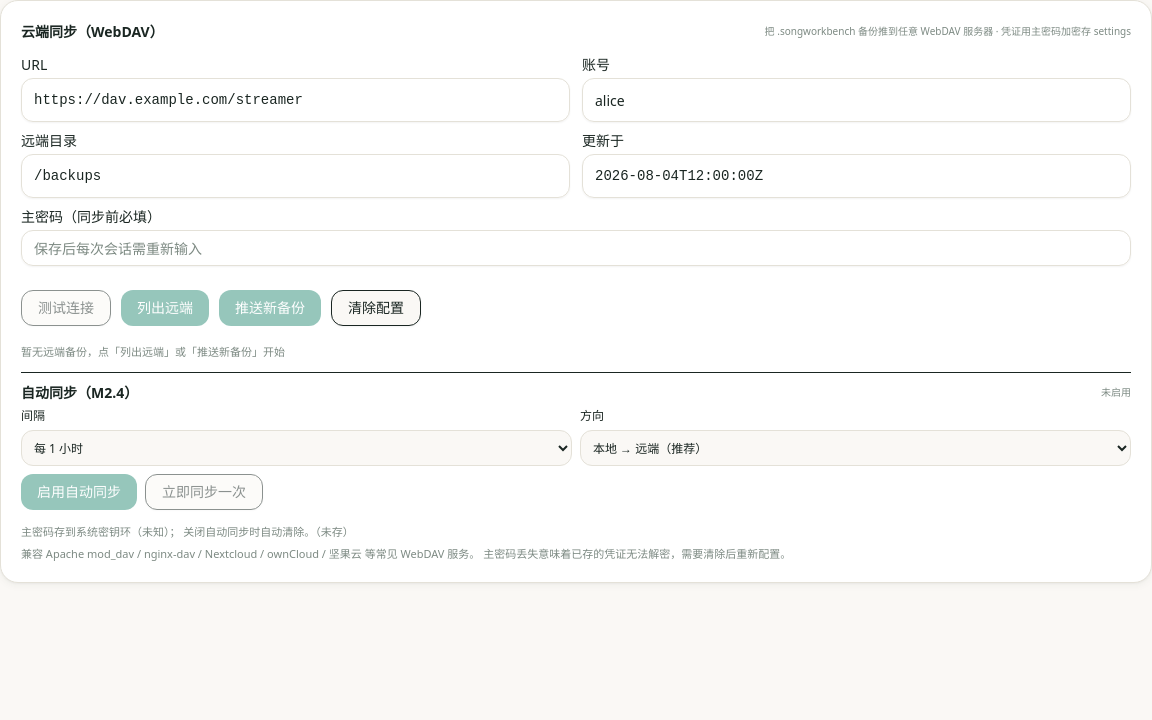
Test: WebDavPanel › 清除配置 → 调 /config/clear + 状态回 unconfigured
Step 1. Type "master123" into the password field with test id "webdav-input-master-password" → x=576, y=248, box [21,230,1131,266]
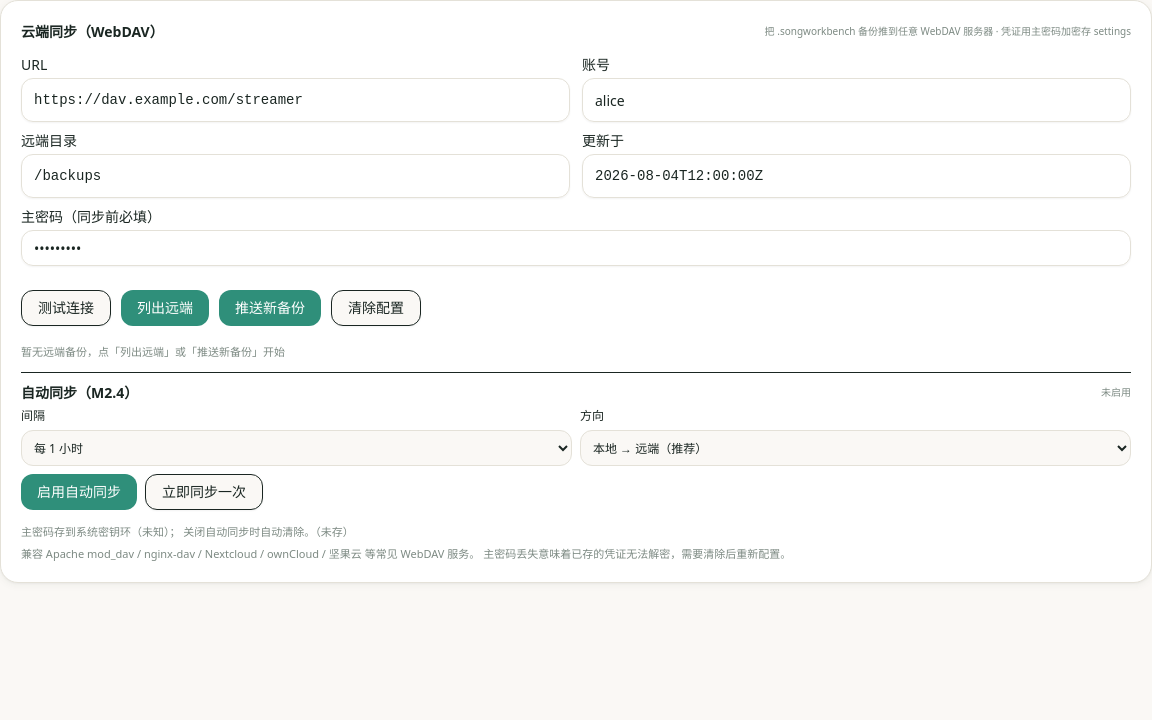
Step 2. Click the button with test id "webdav-clear-button" → x=376, y=308, box [331,290,421,326]
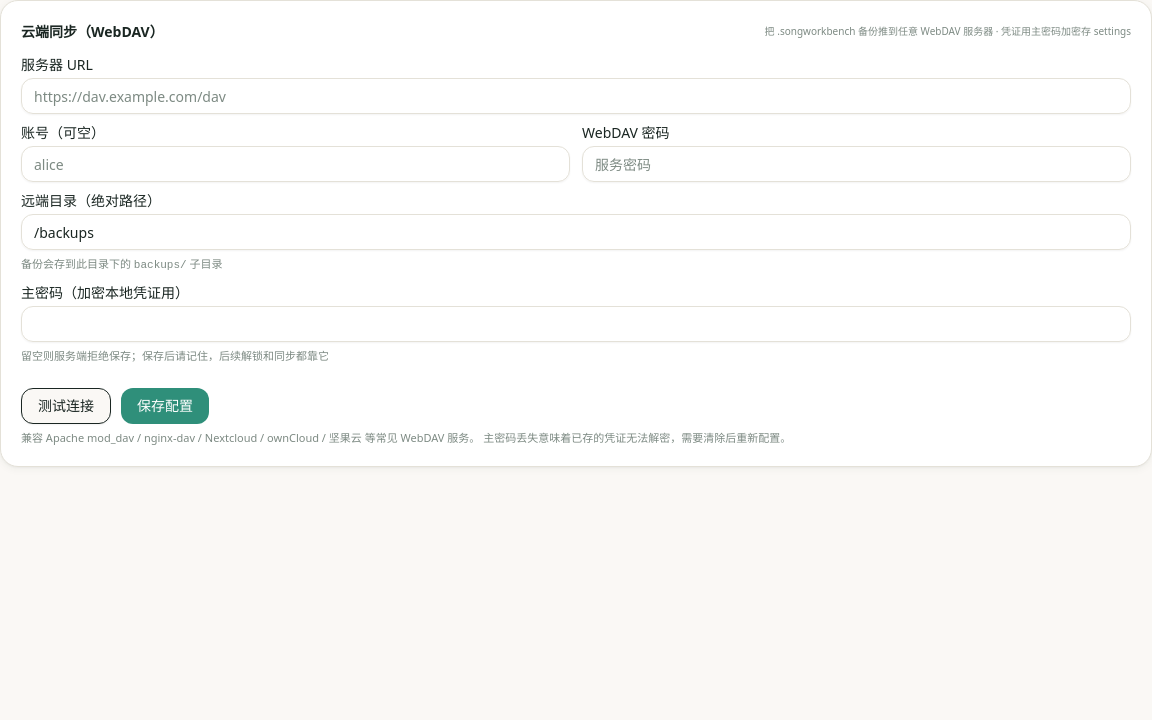
Check: the element with test id "webdav-config-form" is shown, box [21,58,1131,424]
